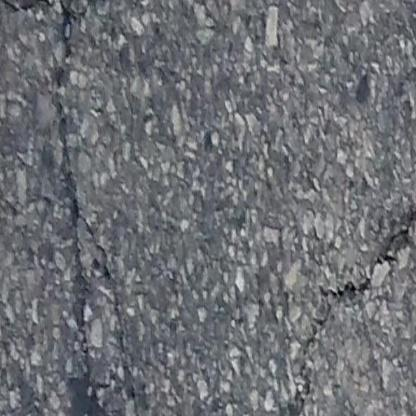Cracks: (18, 0, 131, 363), (289, 190, 416, 416), (128, 385, 147, 416)
